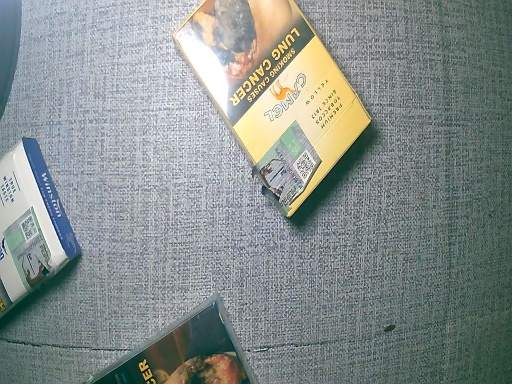cardboard: (172, 1, 374, 222), (67, 291, 261, 384), (1, 131, 83, 333)
